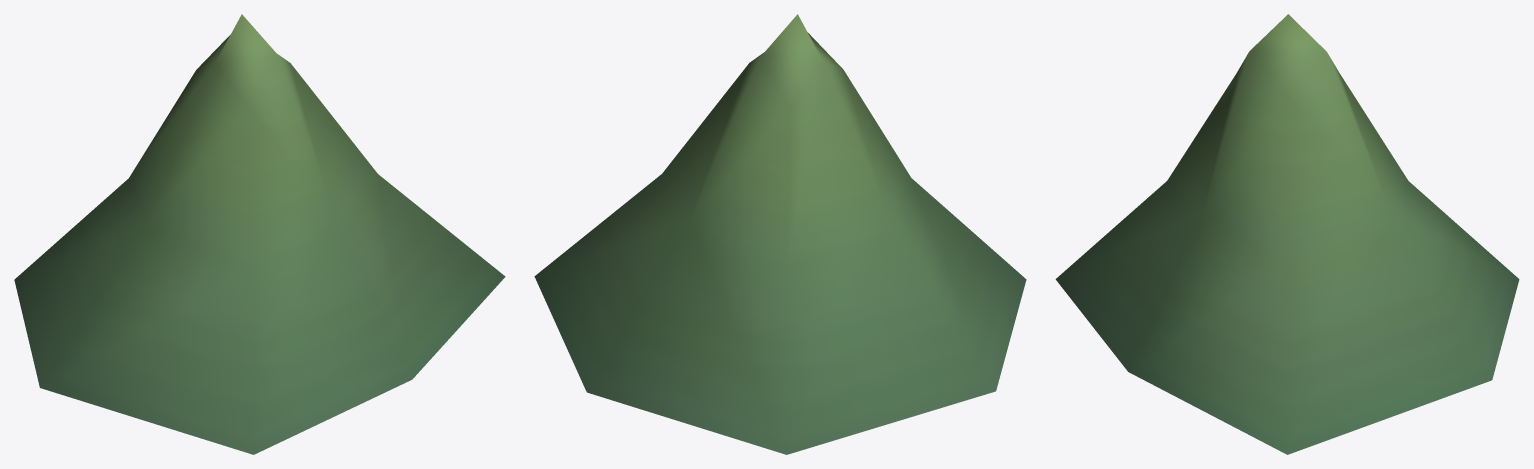
The model's file is berg.glb.
The picture shows the model from 3 angles, left to right: view 1: azimuth 30°, elevation 25°; view 2: azimuth 150°, elevation 25°; view 3: azimuth 270°, elevation 25°; orthographic projection. The views are drawn at different scales.
Parts seen in each view (by area): view 1: Mountain001; view 2: Mountain001; view 3: Mountain001.
Part boxes in pixels (x1=…): Mountain001: x1=14, y1=14, x2=505, y2=454; Mountain001: x1=534, y1=14, x2=1026, y2=454; Mountain001: x1=1055, y1=14, x2=1519, y2=454.
Bounding box in the file's own units: 879 × 592 × 787.
Materials: 1 (1 with a texture image).
